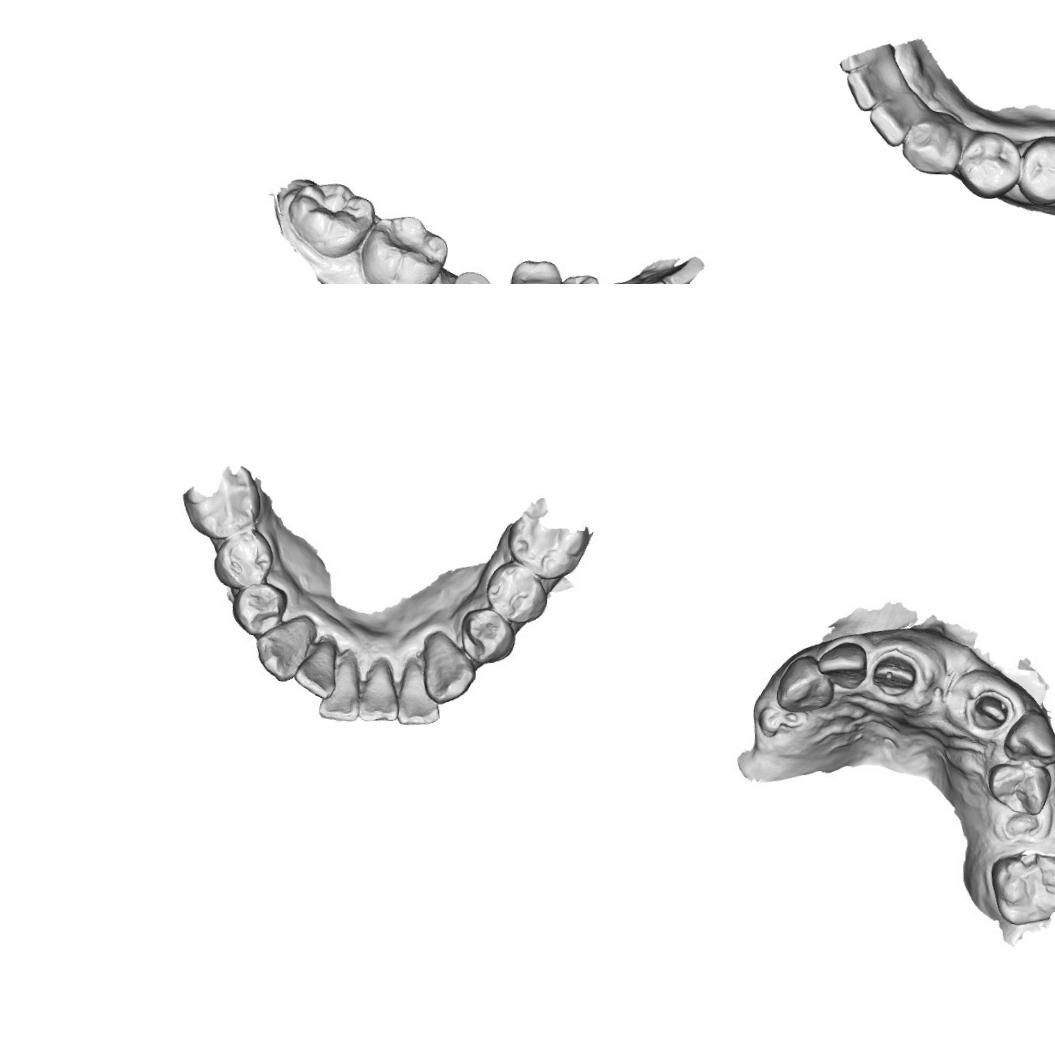canine: (418, 631, 480, 707), (252, 613, 312, 684), (900, 109, 960, 178), (773, 652, 836, 716), (1000, 707, 1055, 767)
crown: (868, 652, 918, 699), (970, 682, 1014, 734)
implant: (445, 267, 494, 284)
incisor: (394, 658, 443, 728), (317, 652, 365, 722), (866, 94, 922, 150), (840, 60, 894, 118), (293, 634, 336, 704), (356, 656, 397, 727), (816, 637, 870, 689), (664, 253, 703, 284)
molar: (352, 207, 453, 284), (284, 174, 371, 260), (178, 465, 260, 543), (987, 846, 1055, 931), (507, 502, 586, 571)
premolar: (956, 130, 1020, 200), (984, 757, 1053, 820), (484, 558, 545, 626), (210, 524, 274, 588), (229, 575, 290, 639), (454, 604, 515, 666), (1015, 135, 1055, 207), (501, 252, 562, 284)
